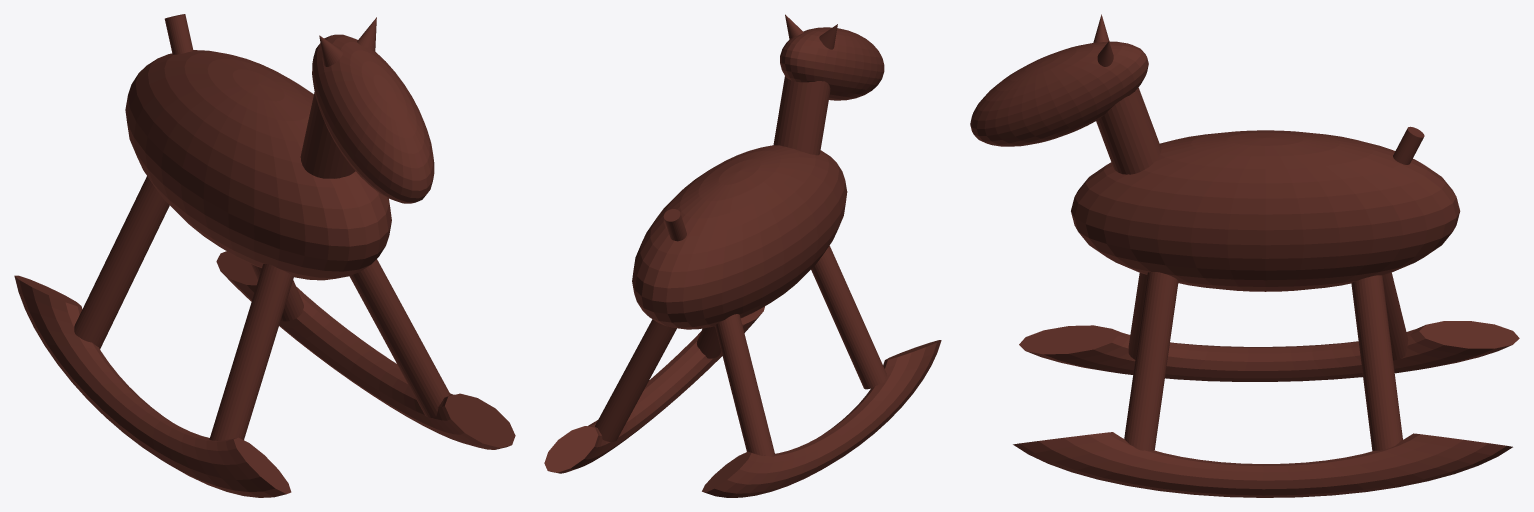
The model's file is Horse.fbx.
3 renders of one model, left to right at view 1: azimuth 30°, elevation 25°; view 2: azimuth 150°, elevation 25°; view 3: azimuth 270°, elevation 25°, orthographic. The views are drawn at different scales.
Visible parts, largest first — view 1: Torus; view 2: Torus; view 3: Torus.
Boxes of the visible parts, <box> form: Torus: <box>14,14,515,497</box>; Torus: <box>544,14,941,497</box>; Torus: <box>970,14,1519,497</box>.
Bounding box in the file's own units: 127 × 203 × 244.
